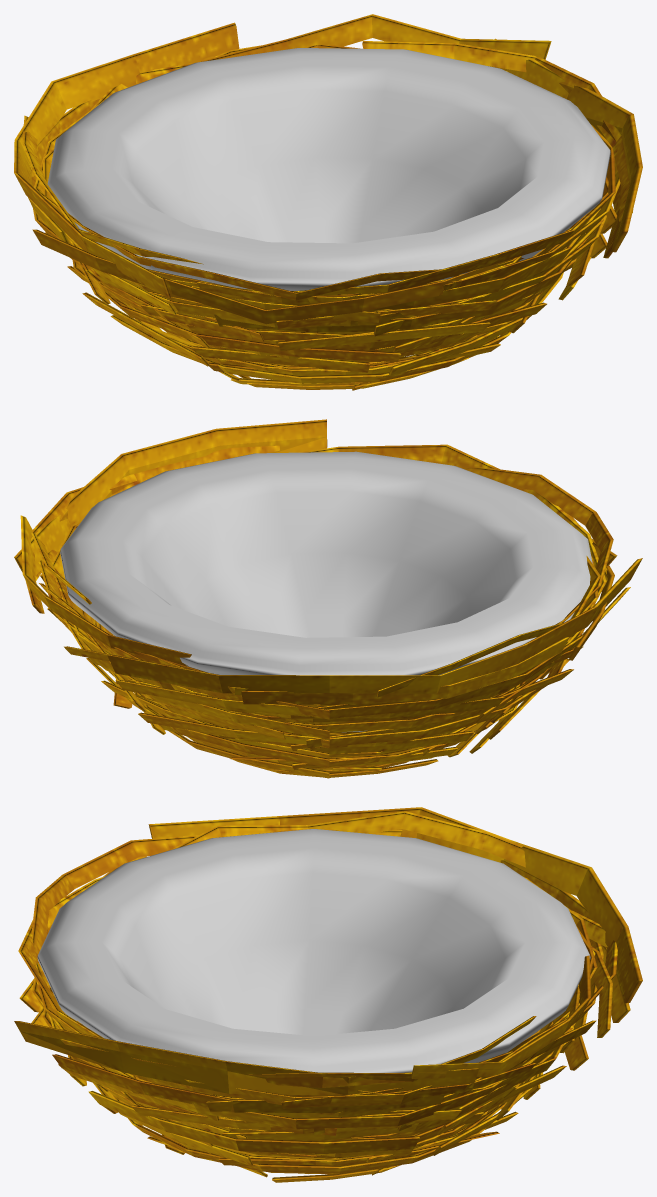
Rendered from nido.fbx.
3 renders of one model, top to bottom at view 1: azimuth 30°, elevation 25°; view 2: azimuth 150°, elevation 25°; view 3: azimuth 270°, elevation 25°, orthographic. The views are drawn at different scales.
Parts seen in each view (by area): view 1: polySurface101; view 2: polySurface101; view 3: polySurface101.
Part boxes in pixels (<box>): polySurface101: <box>14,14,642,390</box>; polySurface101: <box>14,419,642,778</box>; polySurface101: <box>14,807,642,1182</box>.
Size of the model in its own units: 43.25 by 14.62 by 41.72.
